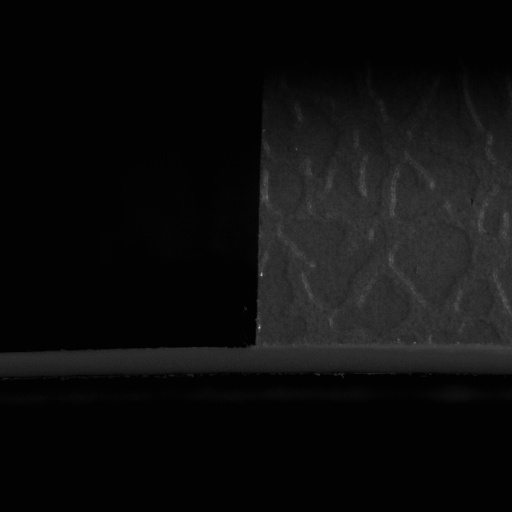changdai: (3, 346, 258, 377)
